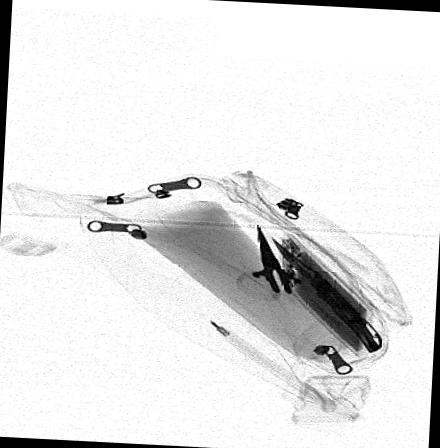Knife: (270, 234, 379, 353)
Powerbank: (277, 233, 375, 357)
Scissors: (236, 223, 318, 308)
